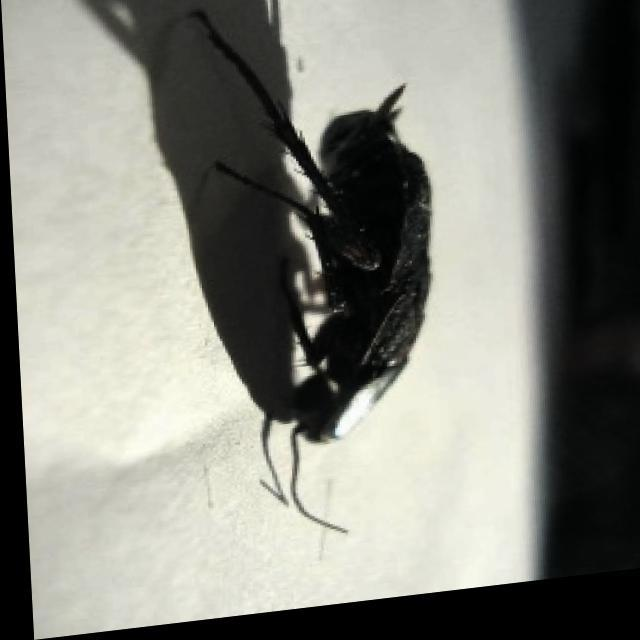cockroach: (137, 9, 441, 537)
